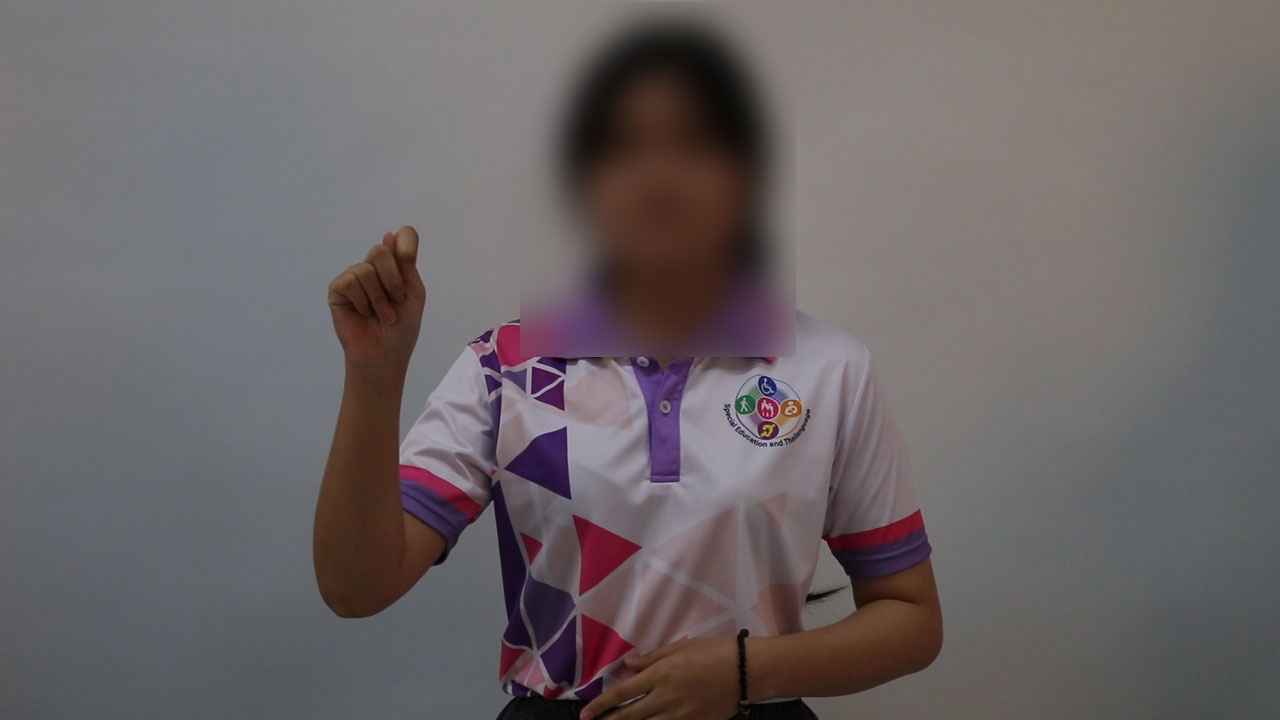tor: (299, 218, 456, 395)
